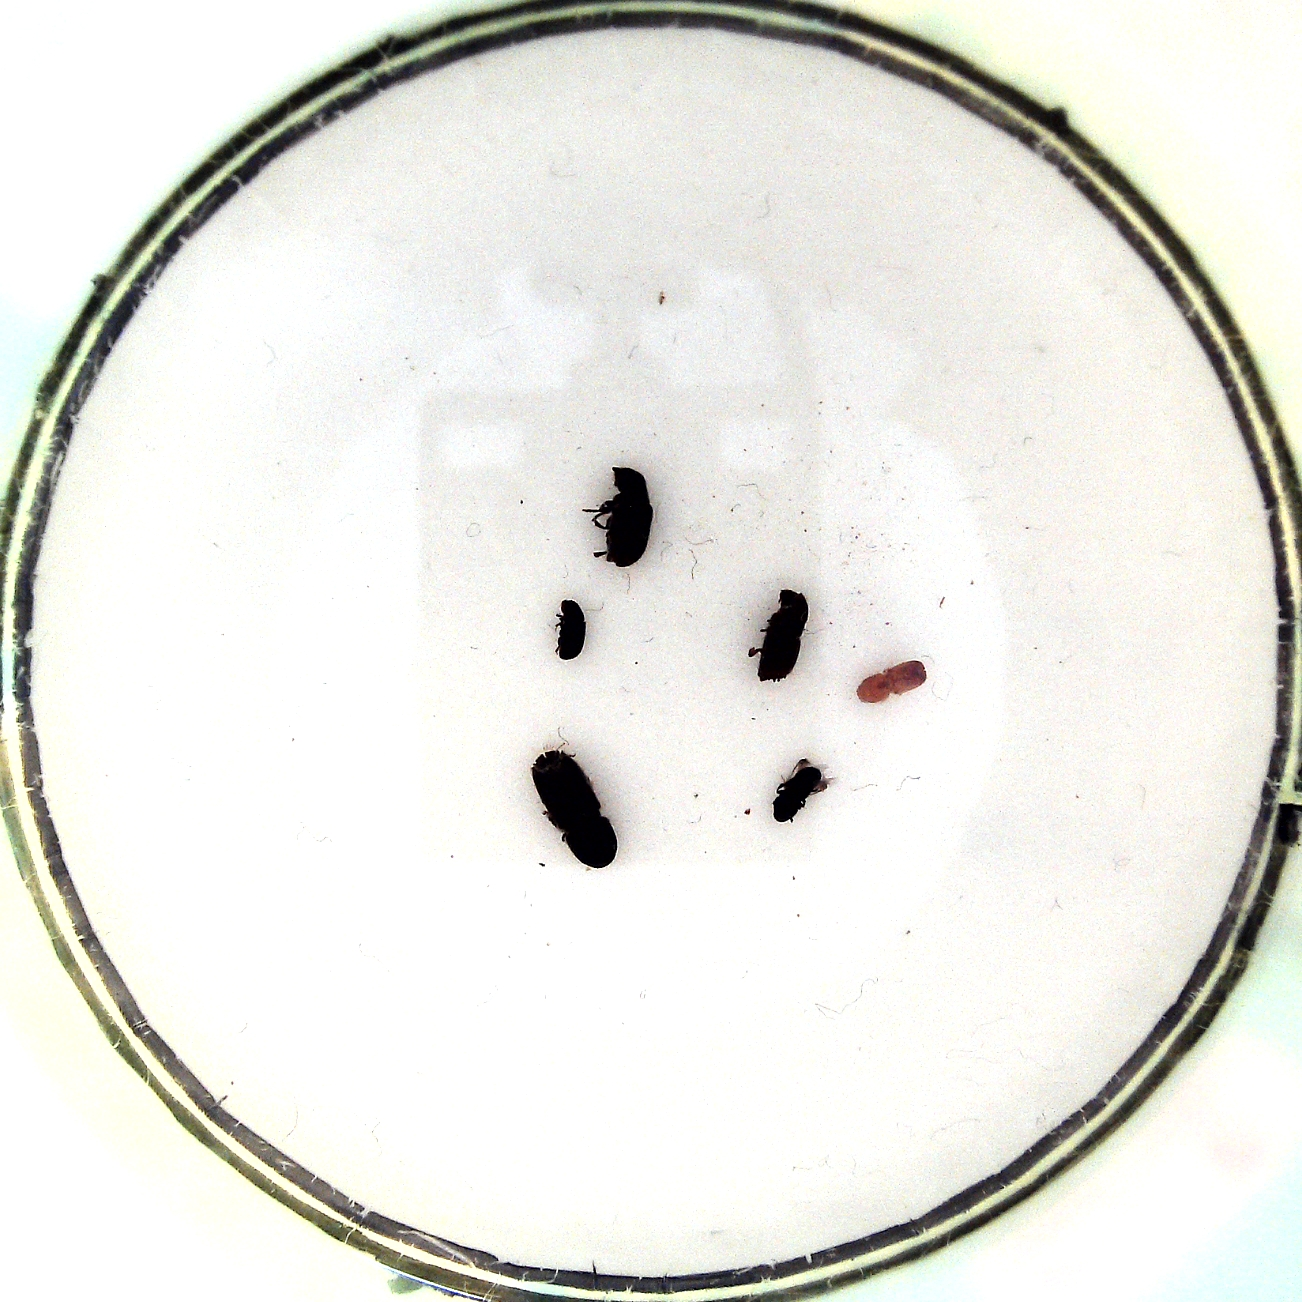Boerner: (523, 740, 624, 872)
Linnaeus: (740, 579, 814, 686)
acuminatus: (852, 657, 934, 709)
armandi: (577, 461, 661, 572)
coleoptera: (759, 749, 833, 826), (544, 593, 596, 662)
